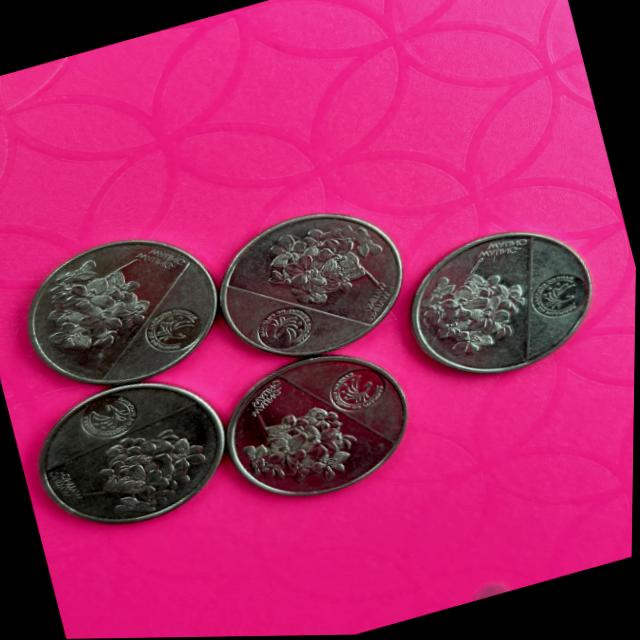1_New_Back: (35, 244, 174, 364), (85, 414, 225, 525), (412, 253, 542, 366), (233, 382, 361, 495), (259, 209, 392, 315)
